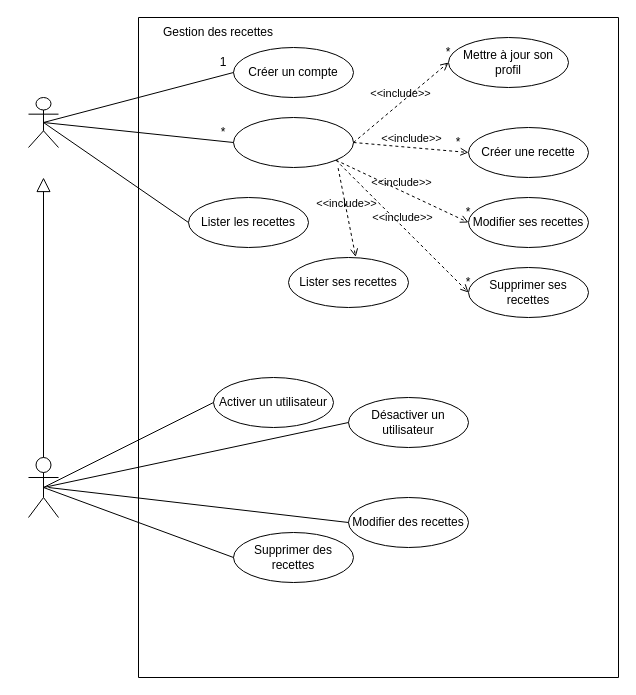
This 636x695 diagram has some shape labels left out. Each missing label, with the centre of its shape:
"Admin" goes at point (43, 487).
"Se connecter" goes at point (293, 142).
"Utilisateur" goes at point (43, 122).
